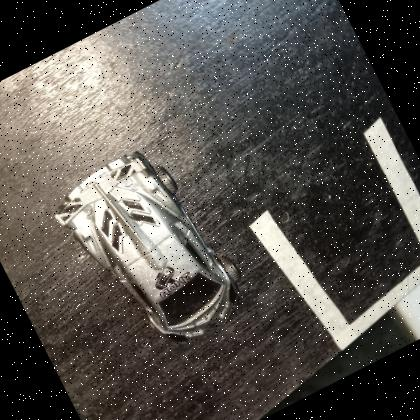Car: (54, 150, 238, 338)
